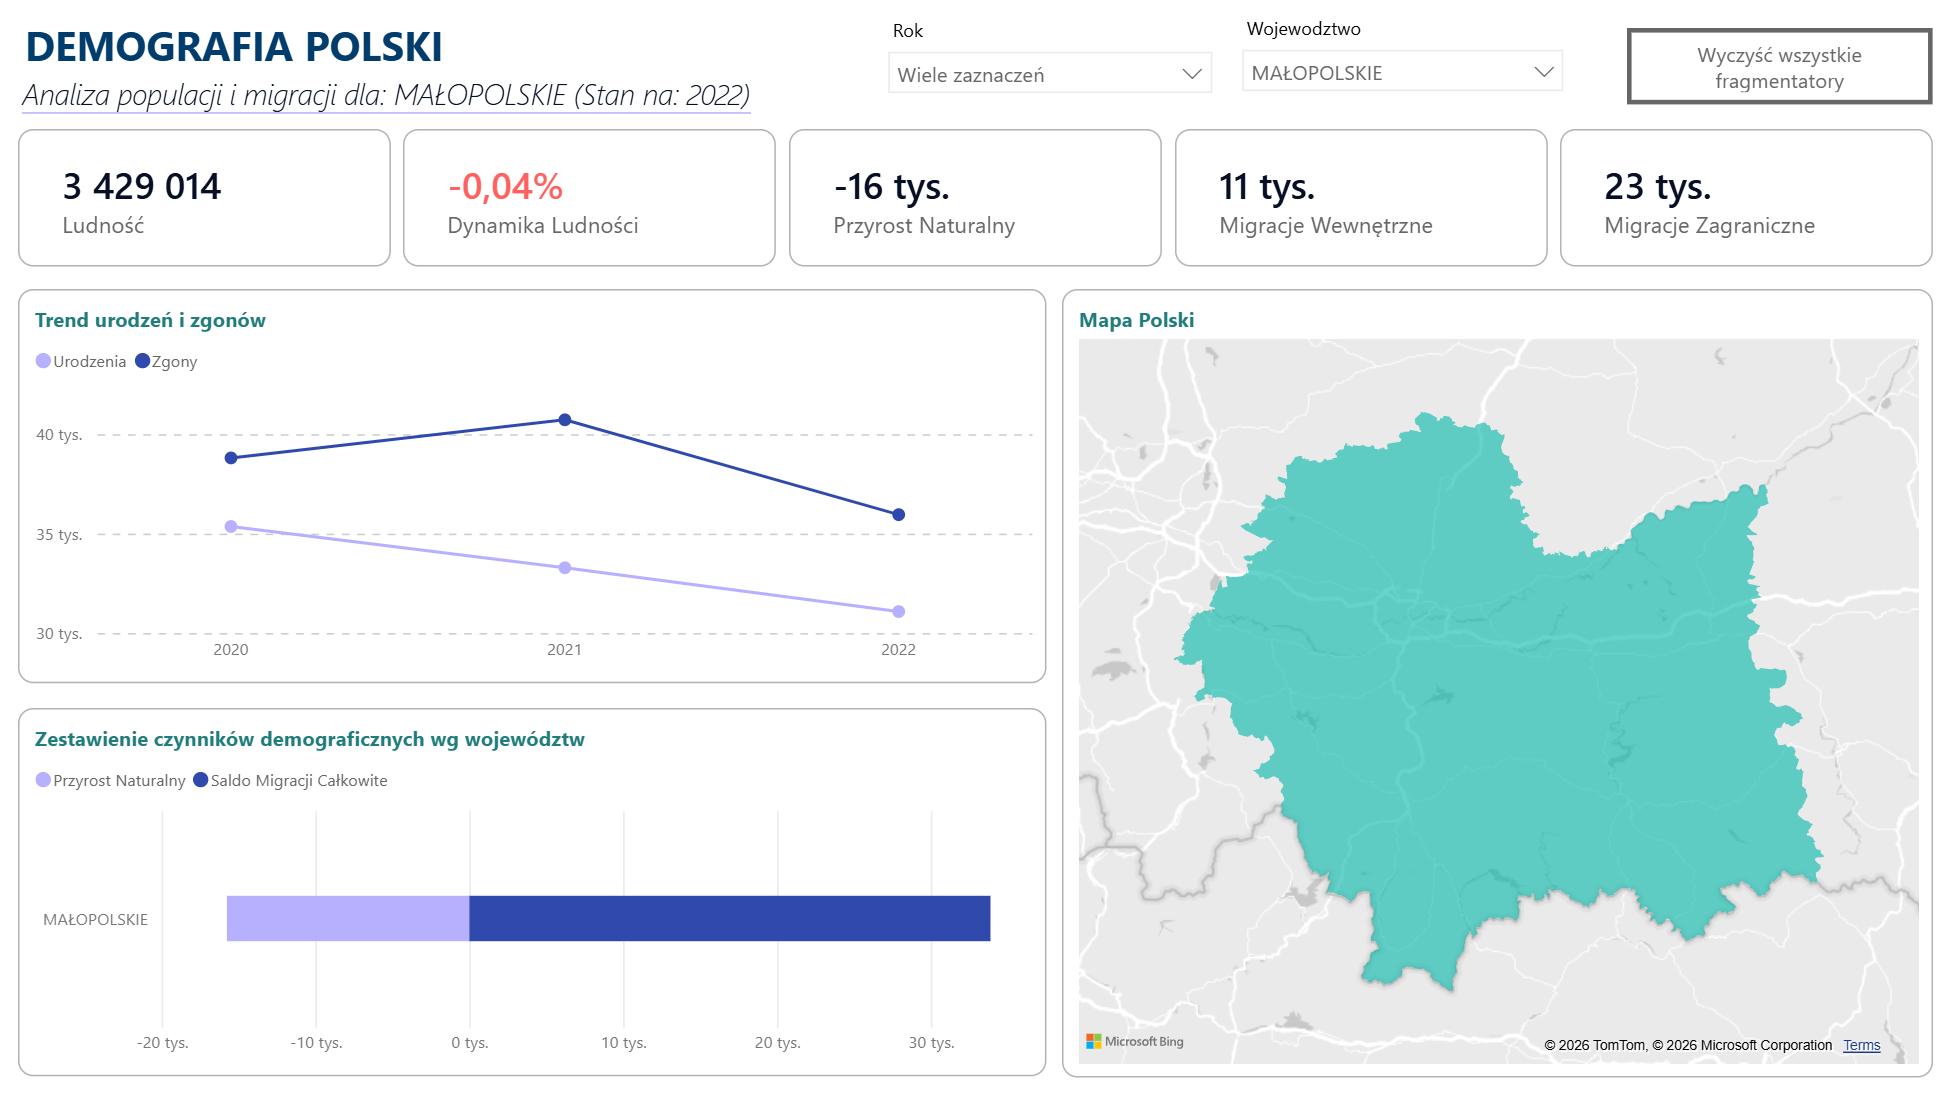

The page's visual inventory and layout, read from the dashboard file:
{"tool":"powerbi","page":{"name":"Strona 1","canvas":[1280,720],"ordinal":0},"visuals":[{"type":"textbox","box":[12,6.7,334,49.2],"z":0},{"type":"textbox","box":[0,49.3,607.5,39.4],"z":1000},{"type":"lineChart","title":"Trend urodzeń i zgonów","fields":{"Category":["Demografia.Rok"],"Y":["MIARY.M_Urodzenia","MIARY.M_Zgony"]},"box":[12.4,189.8,672.7,257.8],"z":2000},{"type":"filledMap","title":"Mapa Polski","fields":{"Category":["Demografia.Wojewodztwo"]},"box":[695.6,189.9,569.7,515.7],"z":3000},{"type":"cardVisual","fields":{"Data":["MIARY.M_Ludnosc"]},"box":[12.1,84.8,243.6,90.2],"z":4000},{"type":"barChart","title":"Zestawienie czynników demograficznych wg województw","fields":{"Category":["Demografia.Wojewodztwo"],"Y":["MIARY.M_Przyrost_Naturalny","MIARY.M_Saldo_Migracji_Calkowite"]},"box":[12.4,464,672.7,240.8],"z":5000},{"type":"slicer","fields":{"Values":["Demografia.Rok"]},"box":[571.9,6.5,231.7,73.9],"z":6000},{"type":"slicer","fields":{"Values":["Demografia.Wojewodztwo"]},"box":[803.6,5.2,230.3,75.3],"z":7000},{"type":"cardVisual","fields":{"Data":["MIARY.M_Migracje_Zagraniczne"]},"box":[1021.7,84.8,243.6,90.2],"z":8000},{"type":"cardVisual","fields":{"Data":["MIARY.M_Dynamika_Ludnosci_YoY"]},"box":[264.5,84.8,243.6,90.2],"z":9000},{"type":"cardVisual","fields":{"Data":["MIARY.M_Przyrost_Naturalny"]},"box":[516.9,84.8,243.6,90.2],"z":10000},{"type":"cardVisual","fields":{"Data":["MIARY.M_Migracje_Wewnetrzne"]},"box":[769.3,84.8,243.6,90.2],"z":11000},{"type":"actionButton","box":[1065.4,19,200,50],"z":12000}]}

Visuals, with their boxes in screenshot pixels (x1, y1, x2, y2), scaled from the page's 1280x720 canvas onto the 1953x1097 screenshot:
textbox: <box>18,10,528,85</box>
textbox: <box>0,75,927,135</box>
"Trend urodzeń i zgonów" lineChart: <box>19,289,1045,682</box>
"Mapa Polski" filledMap: <box>1061,289,1931,1075</box>
cardVisual - MIARY.M_Ludnosc: <box>18,129,390,267</box>
"Zestawienie czynników demograficznych wg województw" barChart: <box>19,707,1045,1074</box>
slicer - Demografia.Rok: <box>873,10,1226,122</box>
slicer - Demografia.Wojewodztwo: <box>1226,8,1578,123</box>
cardVisual - MIARY.M_Migracje_Zagraniczne: <box>1559,129,1931,267</box>
cardVisual - MIARY.M_Dynamika_Ludnosci_YoY: <box>404,129,775,267</box>
cardVisual - MIARY.M_Przyrost_Naturalny: <box>789,129,1160,267</box>
cardVisual - MIARY.M_Migracje_Wewnetrzne: <box>1174,129,1545,267</box>
actionButton: <box>1626,29,1931,105</box>
